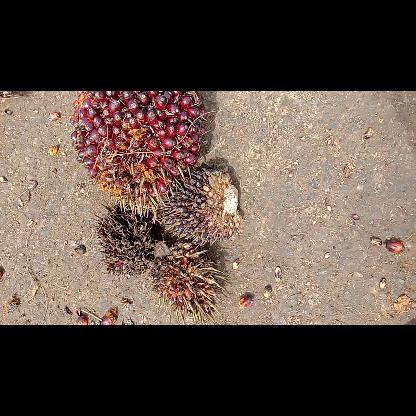TBS abnormal: (161, 162, 241, 249), (150, 240, 232, 324), (90, 200, 160, 278)
TBS masak: (69, 91, 207, 205)
